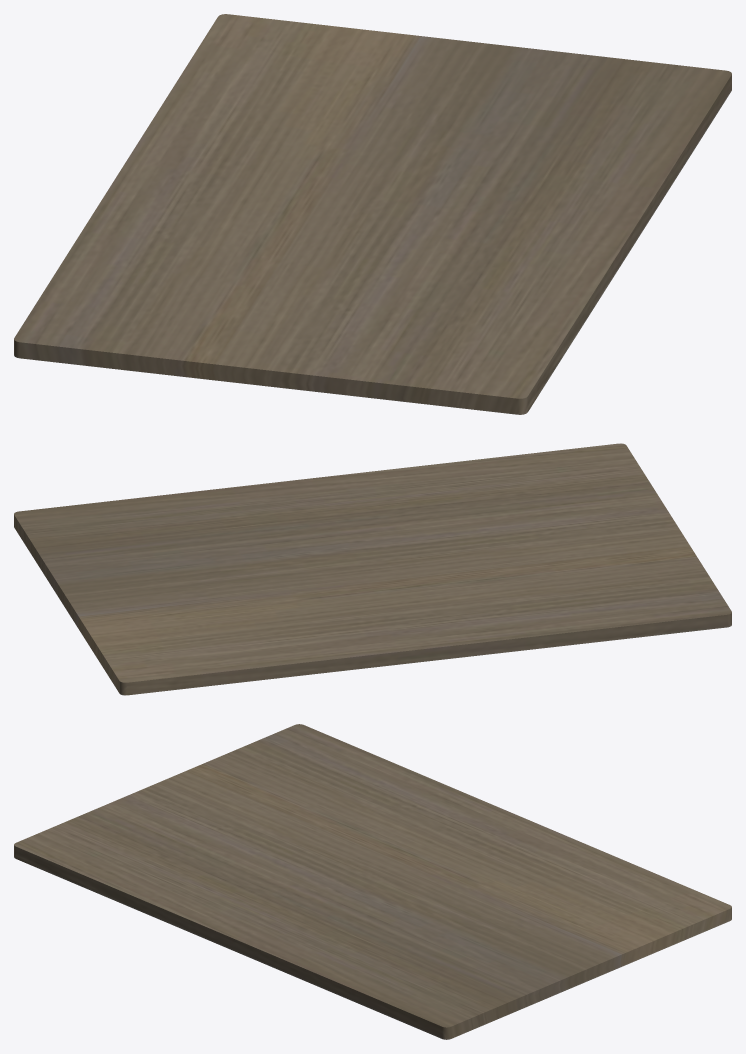
The model's file is bottom_shelf_0101_w600_d400.glb.
The picture shows the model from 3 angles, top to bottom: view 1: azimuth 30°, elevation 25°; view 2: azimuth 150°, elevation 25°; view 3: azimuth 270°, elevation 25°; orthographic projection. The views are drawn at different scales.
Visible parts, largest first — view 1: bottom_shelf_0101_w600_d400; view 2: bottom_shelf_0101_w600_d400; view 3: bottom_shelf_0101_w600_d400.
Boxes of the visible parts, x1,y1,x2,y2 form: bottom_shelf_0101_w600_d400: (14, 14, 731, 414); bottom_shelf_0101_w600_d400: (14, 443, 731, 695); bottom_shelf_0101_w600_d400: (14, 724, 731, 1039).
Size of the model in its own units: 0.6889 by 0.0131 by 0.6889.
Materials: 1 (1 with a texture image).
